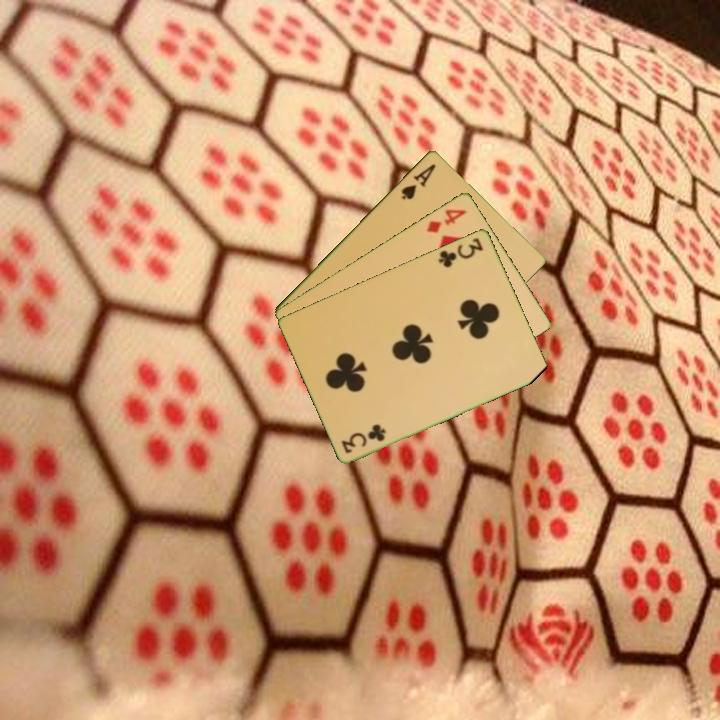3c: (435, 234, 486, 270), (338, 421, 389, 456)
4d: (423, 205, 470, 236)
As: (397, 160, 439, 203)
